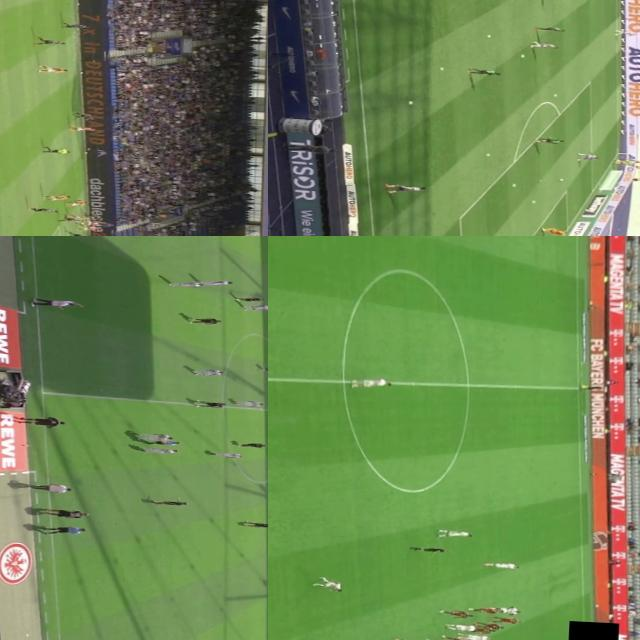ball: (406, 99, 417, 104), (435, 66, 445, 71), (482, 152, 493, 156), (509, 182, 518, 186), (486, 34, 494, 38), (530, 200, 538, 204), (520, 54, 528, 58), (559, 177, 565, 181), (552, 94, 558, 98)
player: (41, 507, 90, 521), (354, 375, 394, 392), (199, 276, 238, 290), (312, 578, 351, 592), (138, 428, 178, 441), (165, 277, 202, 291), (386, 182, 427, 194), (184, 314, 224, 326), (438, 528, 476, 540), (230, 440, 266, 452), (151, 497, 189, 508), (195, 397, 228, 409), (142, 446, 178, 456), (236, 398, 266, 410), (490, 605, 521, 616), (473, 606, 506, 616), (492, 614, 524, 624), (448, 622, 479, 632), (240, 302, 268, 313), (484, 560, 522, 568), (536, 23, 566, 33), (192, 368, 228, 376), (216, 450, 244, 460), (442, 608, 476, 616), (456, 633, 494, 640), (236, 521, 268, 529), (473, 622, 505, 630), (471, 67, 502, 75), (36, 38, 66, 46), (39, 66, 69, 74), (30, 204, 60, 212), (75, 222, 99, 232), (68, 124, 97, 132), (46, 192, 71, 201), (238, 296, 266, 304), (66, 198, 88, 208), (64, 22, 90, 30), (72, 110, 98, 118), (539, 228, 567, 235), (444, 635, 478, 640), (59, 215, 82, 222), (533, 42, 559, 48), (538, 138, 564, 144), (467, 626, 493, 632), (576, 153, 598, 160), (616, 29, 638, 36), (82, 219, 102, 226), (82, 212, 102, 218), (67, 231, 89, 236), (394, 637, 427, 640), (261, 363, 268, 372)
